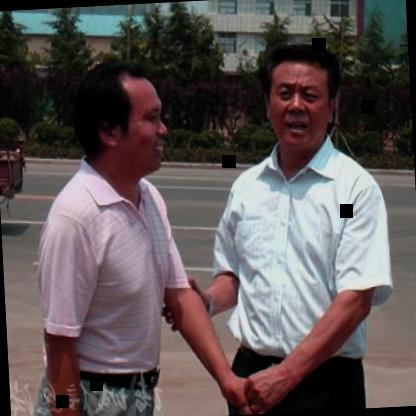head: (62, 60, 160, 196), (258, 33, 346, 160)
